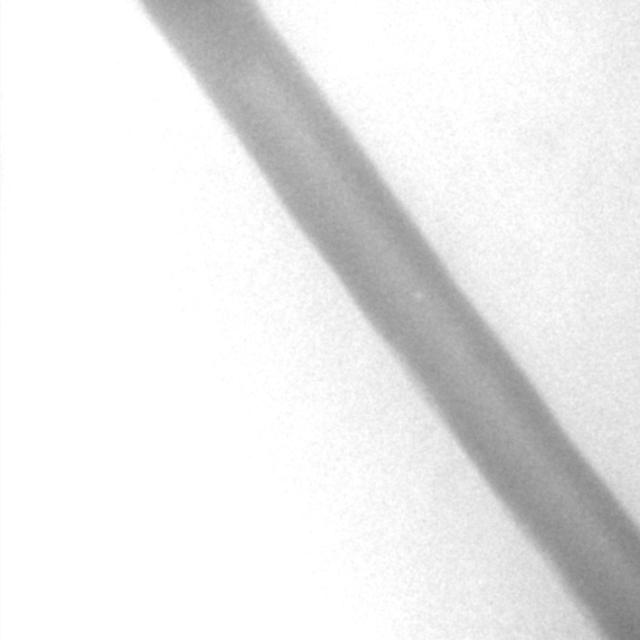air hole: (411, 288, 424, 302)
